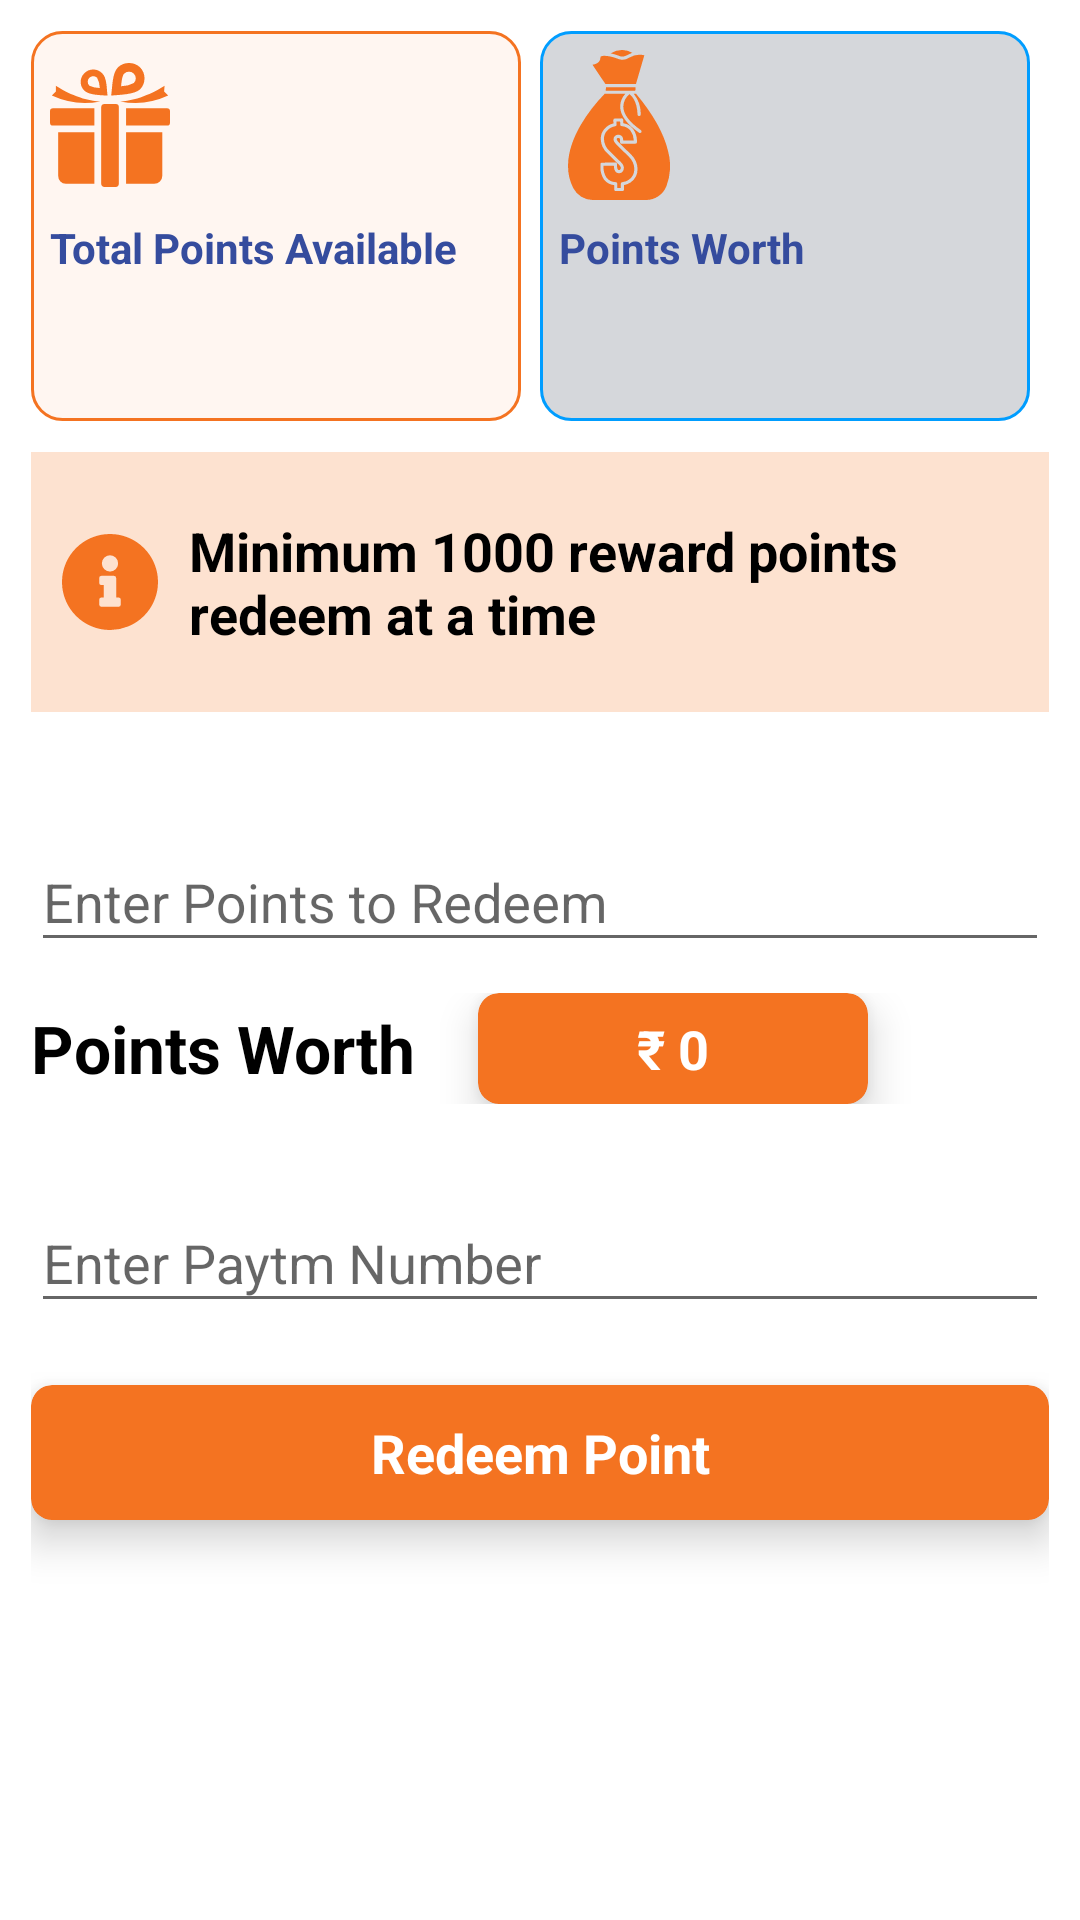

Icon click points for this 1080*1920 phone screenshot, format (x,y):
reedem gift: (110,125)
reedem info: (110,582)
reedem money: (619,125)
